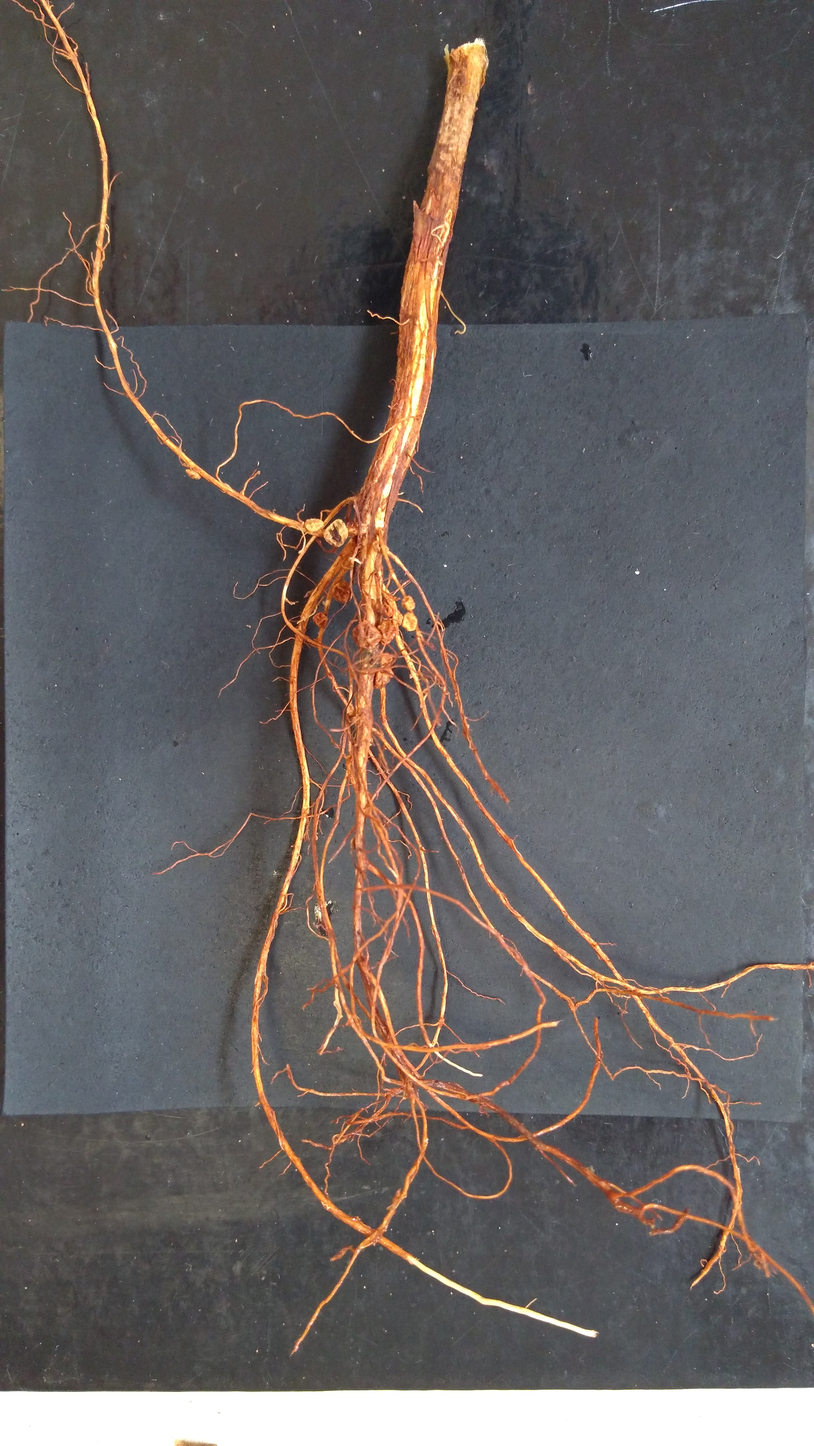nodule: (351, 618, 383, 651), (322, 518, 350, 548), (378, 619, 398, 646), (330, 580, 352, 604), (373, 668, 394, 691), (379, 592, 398, 616), (401, 611, 418, 634), (304, 517, 324, 534), (311, 611, 328, 630), (400, 595, 416, 612), (373, 541, 390, 555), (184, 469, 202, 481), (380, 652, 393, 665)
